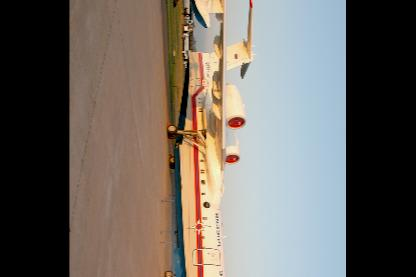B52: (163, 0, 259, 276)
